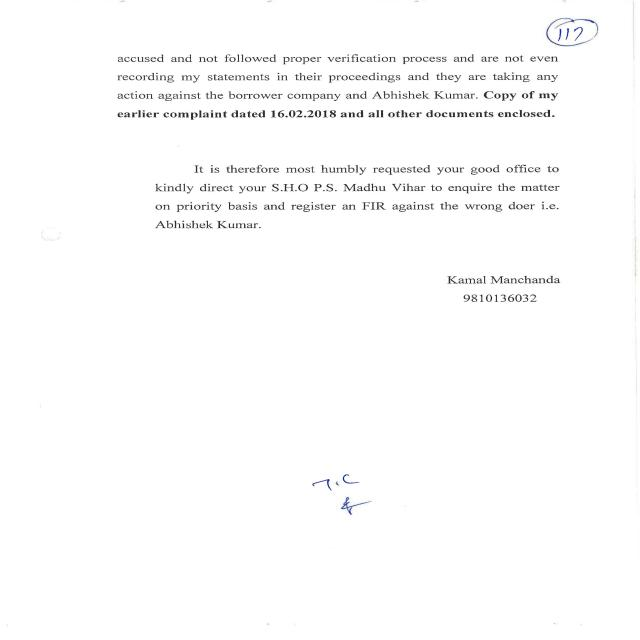page-number: (399, 0, 640, 52)
